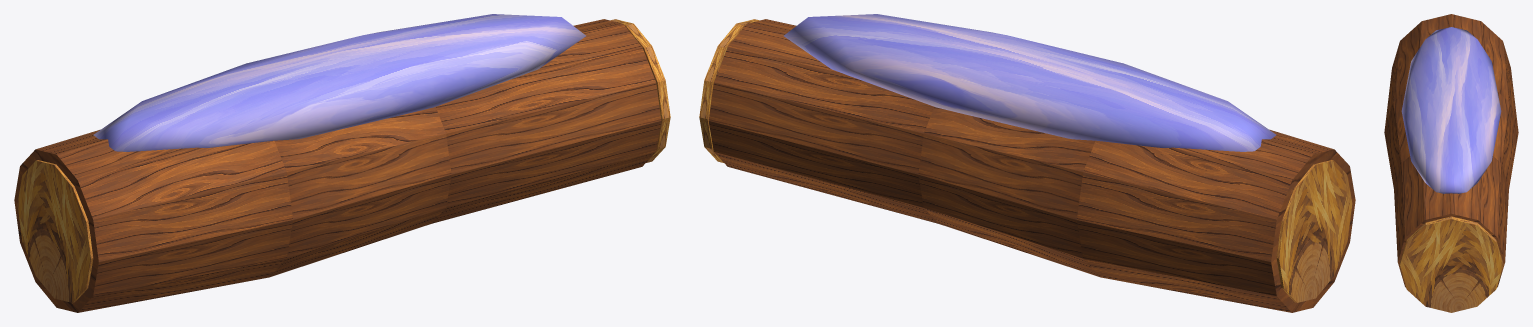
File: fallen_log.glb
3 views of the same model, side by side, from view 1: azimuth 30°, elevation 25°; view 2: azimuth 150°, elevation 25°; view 3: azimuth 270°, elevation 25° (orthographic). The views are drawn at different scales.
Parts seen in each view (by area): view 1: Fallen log, Snow along log, Cut wood end, Cut wood end.001; view 2: Fallen log, Snow along log, Cut wood end, Cut wood end.001; view 3: Snow along log, Fallen log, Cut wood end.001.
Part boxes in pixels (<box>): Fallen log: <box>14,19,661,312</box>; Snow along log: <box>93,14,585,151</box>; Cut wood end: <box>17,160,93,302</box>; Cut wood end.001: <box>610,19,670,162</box>; Fallen log: <box>708,19,1355,312</box>; Snow along log: <box>784,14,1276,151</box>; Cut wood end: <box>1276,160,1352,302</box>; Cut wood end.001: <box>699,19,759,162</box>; Snow along log: <box>1401,27,1501,193</box>; Fallen log: <box>1384,14,1518,287</box>; Cut wood end.001: <box>1399,216,1503,312</box>.
Bounding box in the file's own units: 2.46 × 0.79 × 0.7.
Materials: 3 (3 with a texture image).
